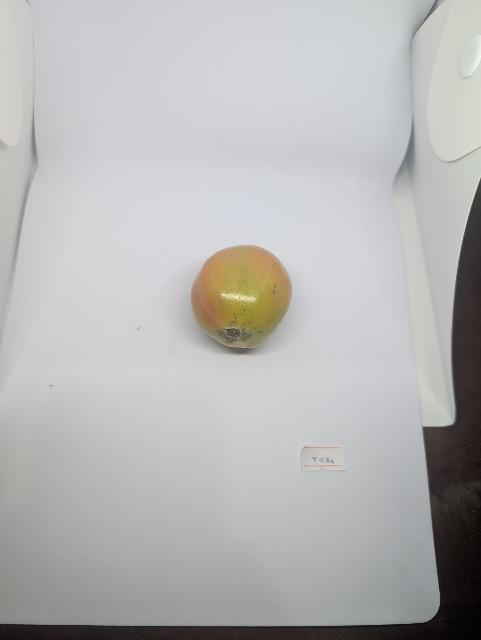breaker: (188, 241, 298, 359)
